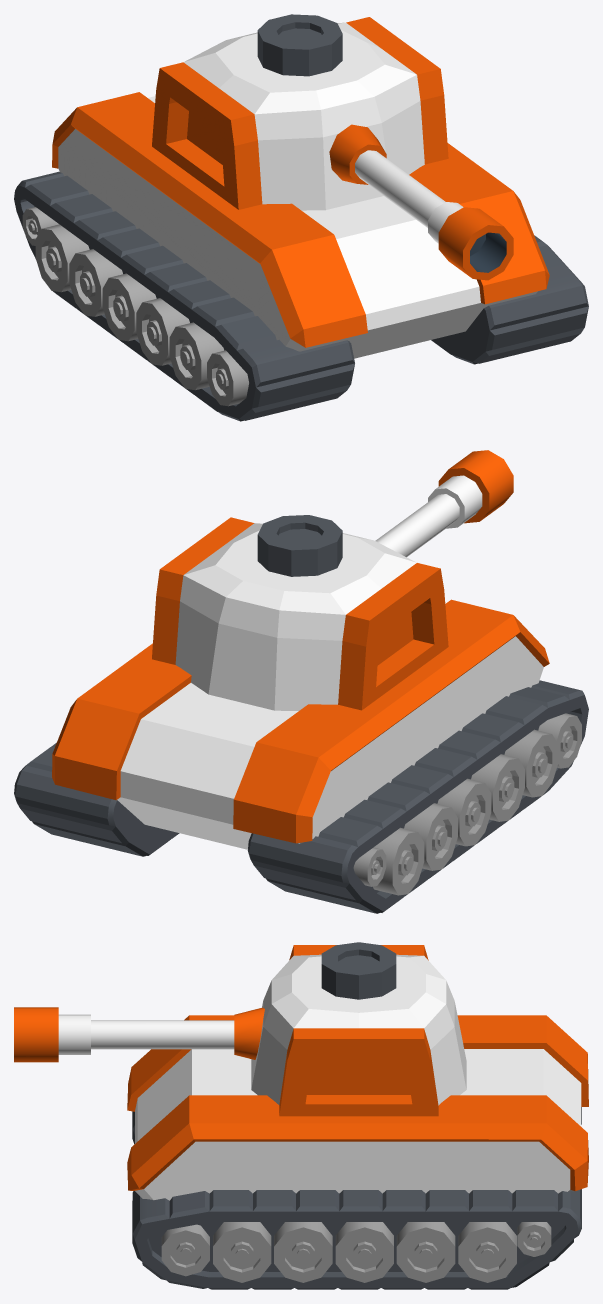
The model's file is tank1.fbx.
The picture shows the model from 3 angles, top to bottom: view 1: azimuth 30°, elevation 25°; view 2: azimuth 150°, elevation 25°; view 3: azimuth 270°, elevation 25°; orthographic projection. The views are drawn at different scales.
Parts seen in each view (by area): view 1: tank1 (×2), wheel_tank2, gun_tank1, wheel_tank1; view 2: tank1 (×2), wheel_tank2, wheel_tank1, gun_tank1; view 3: tank1 (×2), wheel_tank1, gun_tank1.
Boxes of the visible parts, <box> form: tank1 (×2): <box>52,14,549,358</box>; wheel_tank2: <box>14,171,354,421</box>; gun_tank1: <box>329,124,513,280</box>; wheel_tank1: <box>431,235,588,364</box>; tank1 (×2): <box>52,515,549,849</box>; wheel_tank2: <box>247,680,588,913</box>; wheel_tank1: <box>14,742,179,856</box>; gun_tank1: <box>375,450,513,557</box>; tank1 (×2): <box>127,942,588,1200</box>; wheel_tank1: <box>132,1189,581,1289</box>; gun_tank1: <box>14,1007,264,1062</box>.
Bounding box in the file's own units: 9.85 × 7.36 × 14.86.
1 material, 1 textured.
